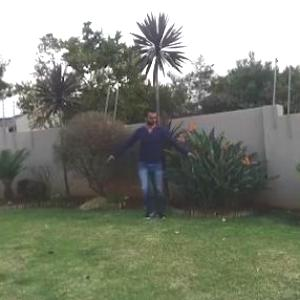land: (101, 100, 201, 228)
